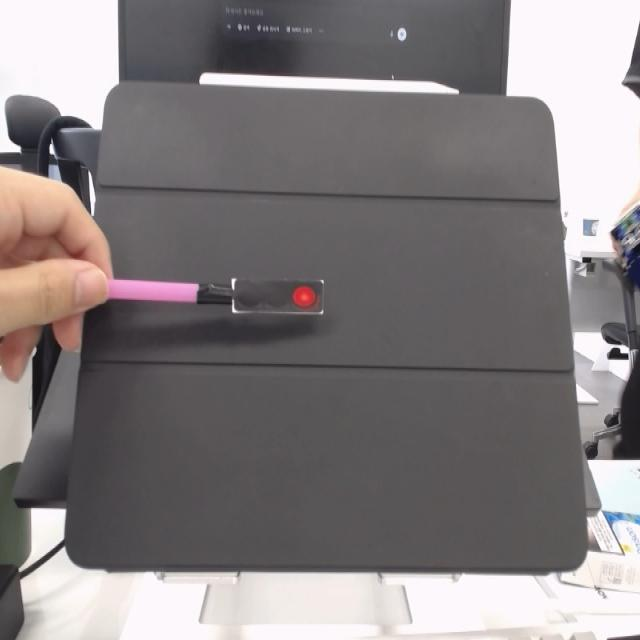traffic light: (229, 277, 327, 321)
